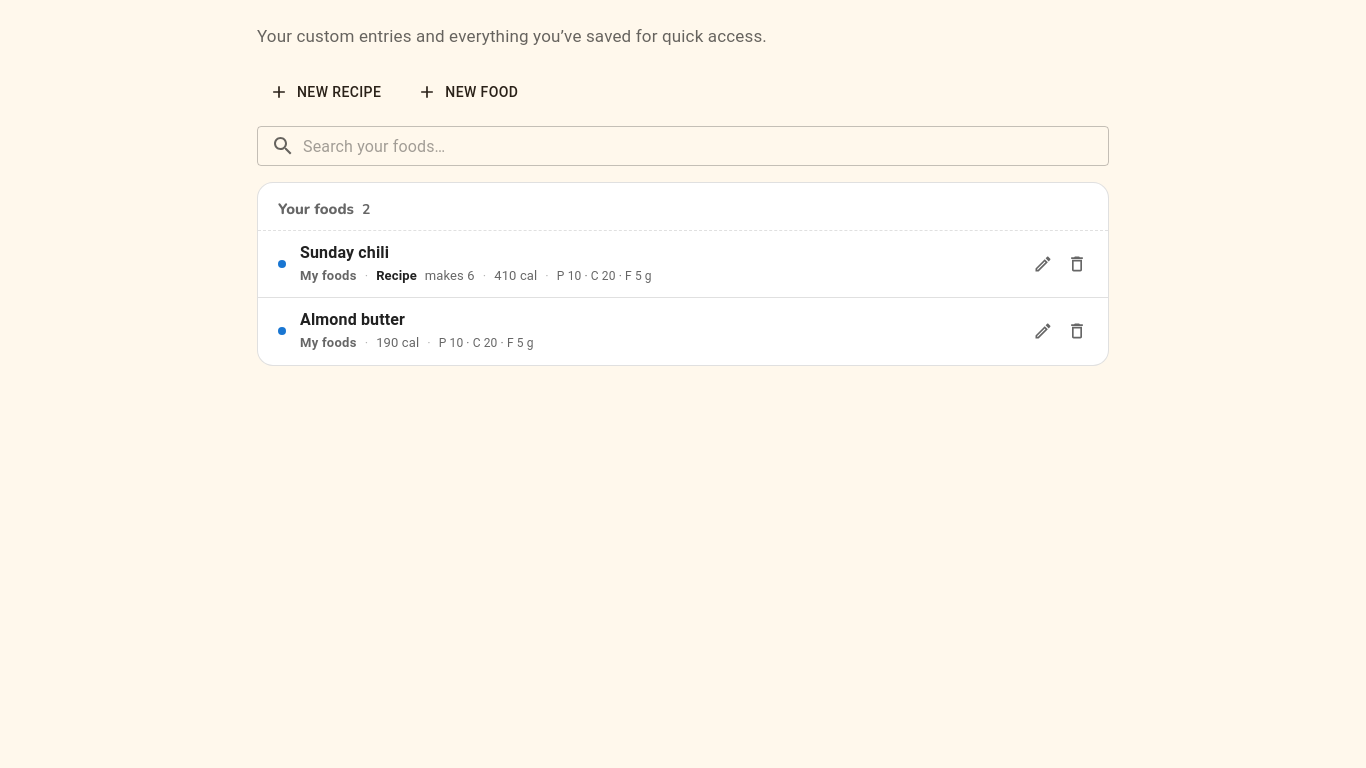
My Foods recipes › opens the plain food form for a non-recipe
The width and height of the screenshot is (1366, 768).
Click the button named "edit almond butter": click(1043, 331) 1028,316 -> 1058,346
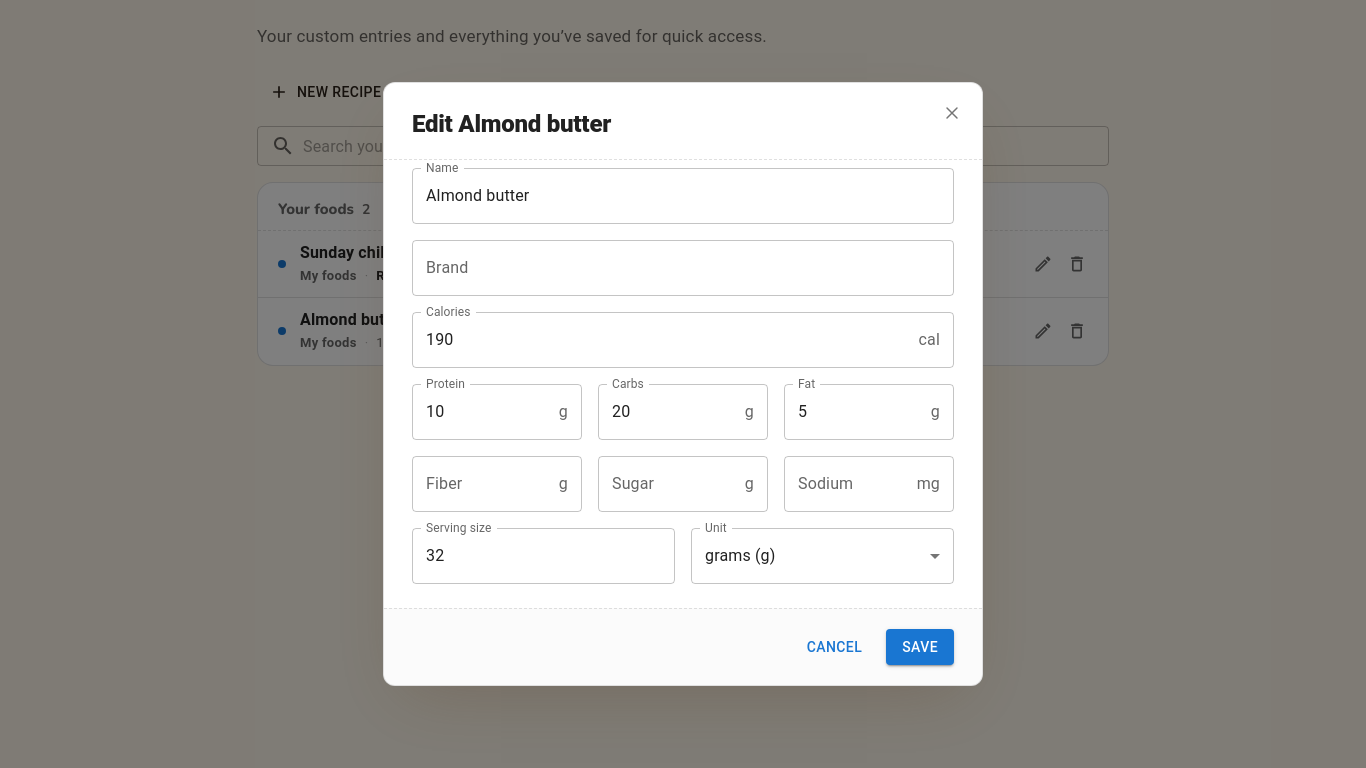
Check: the field showing "Almond butter" is shown, box 412,168 -> 954,224
